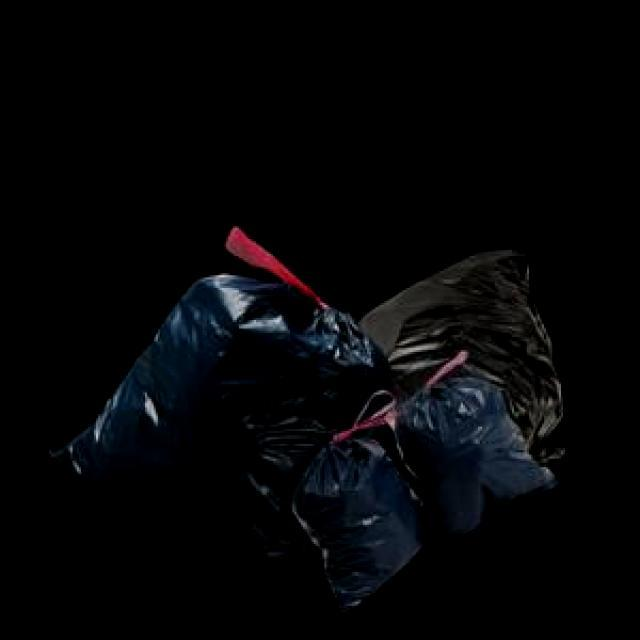Trashbag: (62, 261, 324, 517), (405, 362, 551, 529), (300, 443, 429, 601)
